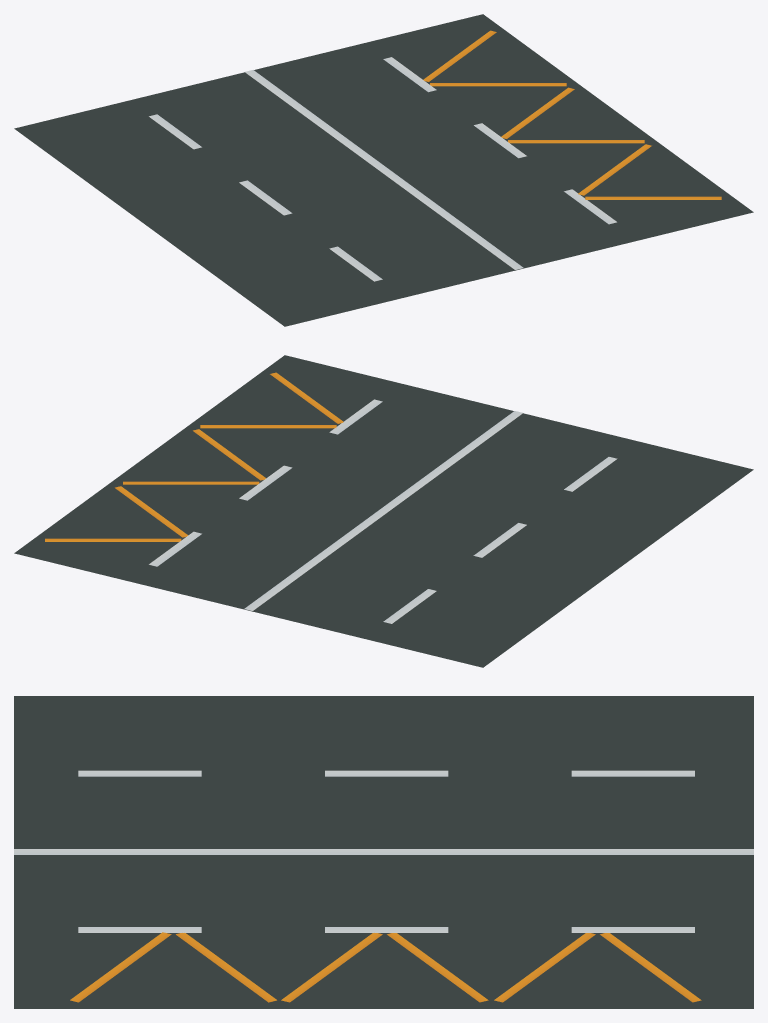
File: Road_2_212.fbx
3 renders of one model, top to bottom at view 1: azimuth 30°, elevation 25°; view 2: azimuth 150°, elevation 25°; view 3: azimuth 270°, elevation 25°, orthographic. The views are drawn at different scales.
Parts seen in each view (by area): view 1: Road_2_212; view 2: Road_2_212; view 3: Road_2_212.
Part boxes in pixels (<box>): Road_2_212: <box>14,14,753,326</box>; Road_2_212: <box>14,355,753,667</box>; Road_2_212: <box>14,696,753,1008</box>.
Bounding box in the file's own units: 1800 × 1.66 × 1800.
